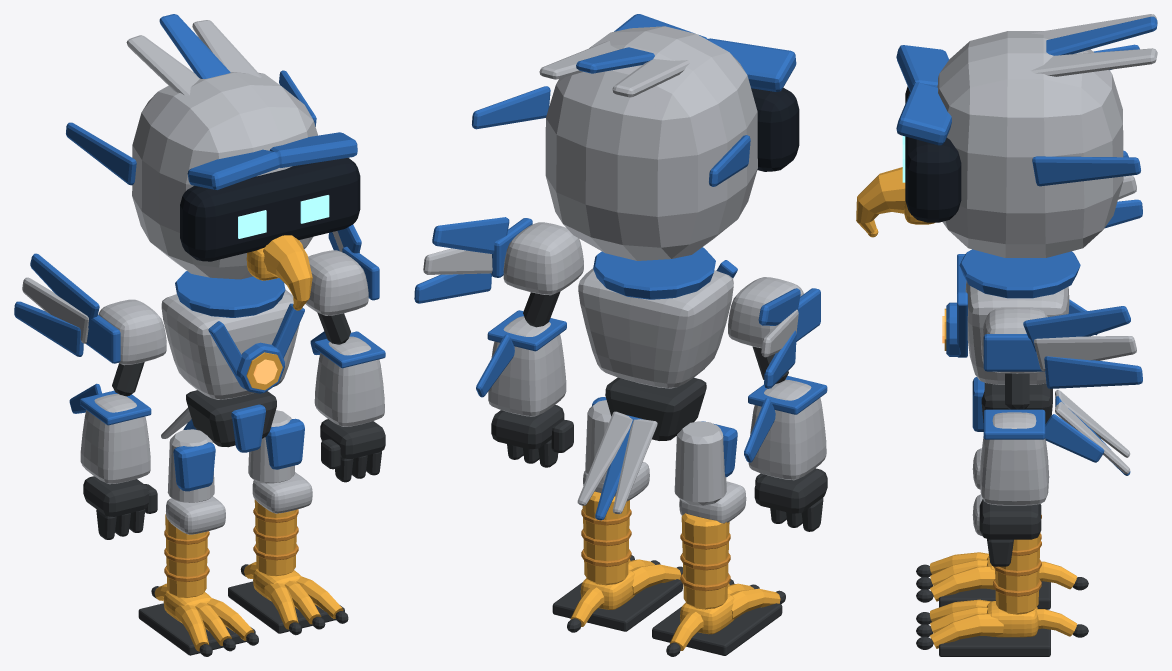
File: aguia.glb
The picture shows the model from 3 angles, left to right: view 1: azimuth 30°, elevation 25°; view 2: azimuth 150°, elevation 25°; view 3: azimuth 270°, elevation 25°; orthographic projection. The views are drawn at different scales.
Visible parts, largest first — view 1: cabeca_p.001, visor.001, tronco_p.001, antebraco.003, antebraco.002, gola.001, ombro_p.002, ombro_p.003, pelve.001, sobrancelha.001, bico.002, canela.001 (+41 smaller); view 2: cabeca_p.001, tronco_p.001, antebraco.003, antebraco.002, ombro_p.002, gola.001, pelve.001, coxa.003, canela.001, visor.001, canela, sola.003 (+36 smaller); view 3: cabeca_p.001, antebraco.002, gola.001, visor.001, tronco_p.001, pena_lado, asa.002, sobrancelha, asa, asa.001, sola.002, canela (+29 smaller).
Boxes of the visible parts, bbox=[...] form: cabeca_p.001: bbox=[132, 72, 317, 279]; visor.001: bbox=[180, 157, 360, 261]; tronco_p.001: bbox=[161, 289, 299, 399]; antebraco.003: bbox=[80, 394, 150, 484]; antebraco.002: bbox=[314, 336, 384, 426]; gola.001: bbox=[175, 271, 285, 317]; ombro_p.002: bbox=[305, 250, 368, 315]; ombro_p.003: bbox=[98, 299, 166, 365]; pelve.001: bbox=[186, 390, 276, 447]; sobrancelha.001: bbox=[187, 149, 279, 189]; bico.002: bbox=[263, 235, 312, 308]; canela.001: bbox=[165, 514, 207, 597]; cabeca_p.001: bbox=[545, 26, 757, 260]; tronco_p.001: bbox=[578, 268, 733, 388]; antebraco.003: bbox=[748, 379, 826, 480]; antebraco.002: bbox=[488, 316, 566, 416]; ombro_p.002: bbox=[503, 222, 583, 295]; gola.001: bbox=[593, 247, 715, 299]; pelve.001: bbox=[605, 377, 706, 440]; coxa.003: bbox=[674, 421, 726, 505]; canela.001: bbox=[681, 513, 729, 609]; visor.001: bbox=[751, 87, 799, 171]; canela: bbox=[582, 491, 629, 585]; sola.003: bbox=[652, 603, 782, 655]; cabeca_p.001: bbox=[937, 31, 1123, 257]; antebraco.002: bbox=[979, 412, 1049, 505]; gola.001: bbox=[959, 249, 1080, 298]; visor.001: bbox=[905, 86, 961, 222]; tronco_p.001: bbox=[965, 281, 1069, 384]; pena_lado: bbox=[1032, 156, 1140, 186]; asa.002: bbox=[1044, 356, 1142, 388]; sobrancelha: bbox=[896, 82, 951, 145]; asa: bbox=[1023, 306, 1130, 351]; asa.001: bbox=[1034, 336, 1136, 371]; sola.002: bbox=[939, 628, 1050, 656]; canela: bbox=[995, 532, 1040, 614].
Size of the model in its own units: 0.719 by 1.18 by 0.539.
